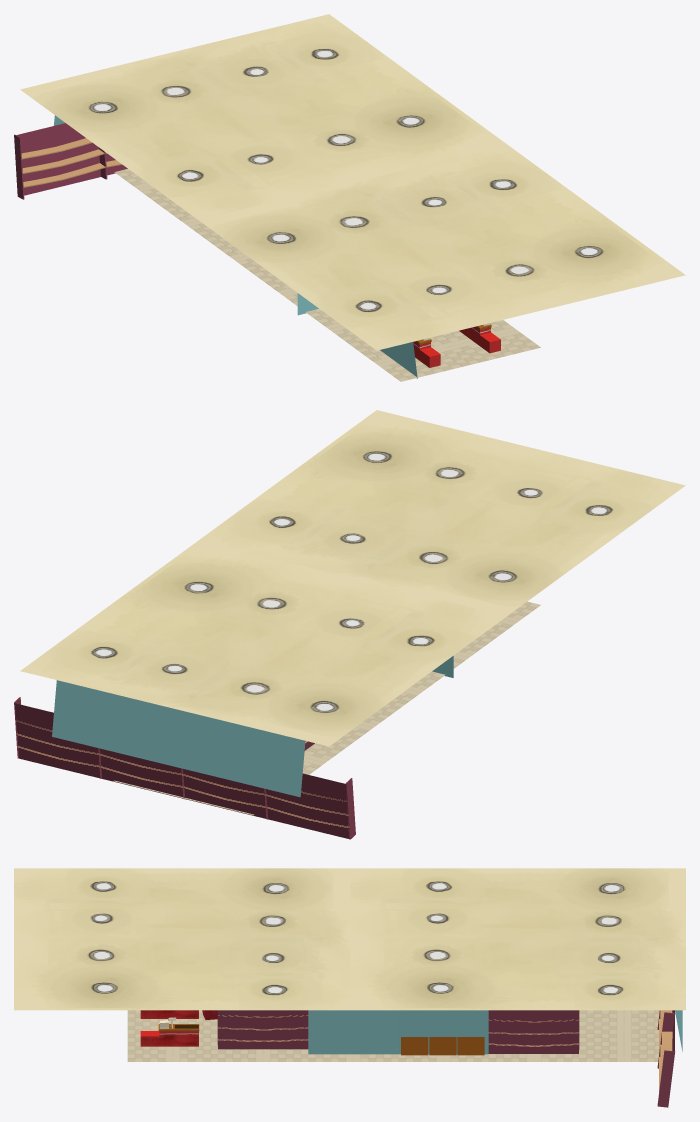
Rendered from layout_v5.fbx.
3 views of the same model, one above another, from view 1: azimuth 30°, elevation 25°; view 2: azimuth 150°, elevation 25°; view 3: azimuth 270°, elevation 25° (orthographic). The views are drawn at different scales.
Parts seen in each view (by area): view 1: pPlane13, pPlane14, floor2, wall3_ncl1_7, floor5, floor4, pCube15_ncl1_1, floor, floor6, wall5, pCube15; view 2: pPlane13, pPlane14, wall6, wall7, wall8, wall3_ncl1_7, wall3_ncl1_6, wall3_ncl1_4, wall3_ncl1_5, floor5, floor3, floor4 (+1 smaller); view 3: pPlane13, pPlane14, floor6, wall4, wall3_ncl1_8, wall3, floor2, wall_ncl1_1, pCube15_ncl1_1, floor, floor3, floor5 (+6 smaller).
Part boxes in pixels (box(x1,y1,x2,y2)): pPlane13: box(20, 14, 507, 219); pPlane14: box(198, 145, 685, 350); floor2: box(353, 320, 540, 381); wall3_ncl1_7: box(16, 123, 100, 195); floor5: box(161, 203, 222, 241); floor4: box(209, 238, 270, 276); pCube15_ncl1_1: box(459, 324, 500, 353); floor: box(306, 308, 366, 346); floor6: box(114, 169, 174, 206); wall5: box(380, 342, 417, 378); pCube15: box(413, 339, 440, 367); pPlane13: box(20, 540, 506, 746); pPlane14: box(199, 410, 685, 615); wall6: box(135, 700, 222, 776); wall7: box(52, 680, 139, 756); wall8: box(218, 720, 305, 797); wall3_ncl1_7: box(266, 773, 350, 838); wall3_ncl1_6: box(14, 703, 100, 778); wall3_ncl1_4: box(183, 769, 266, 818); wall3_ncl1_5: box(100, 748, 183, 798); floor5: box(302, 742, 348, 774); floor3: box(384, 671, 444, 709); floor4: box(336, 707, 396, 745); pPlane13: box(349, 868, 685, 1010); pPlane14: box(14, 868, 350, 1010); floor6: box(579, 1010, 658, 1061); wall4: box(308, 1010, 398, 1054); wall3_ncl1_8: box(488, 1010, 578, 1053); wall3: box(218, 1010, 308, 1049); floor2: box(127, 1010, 217, 1061); wall_ncl1_1: box(398, 1010, 488, 1054); pCube15_ncl1_1: box(140, 1024, 199, 1046); floor: box(218, 1049, 308, 1061); floor3: box(308, 1054, 398, 1061); floor5: box(488, 1054, 578, 1061).
Size of the model in its own units: 40.07 by 11.22 by 74.45.
